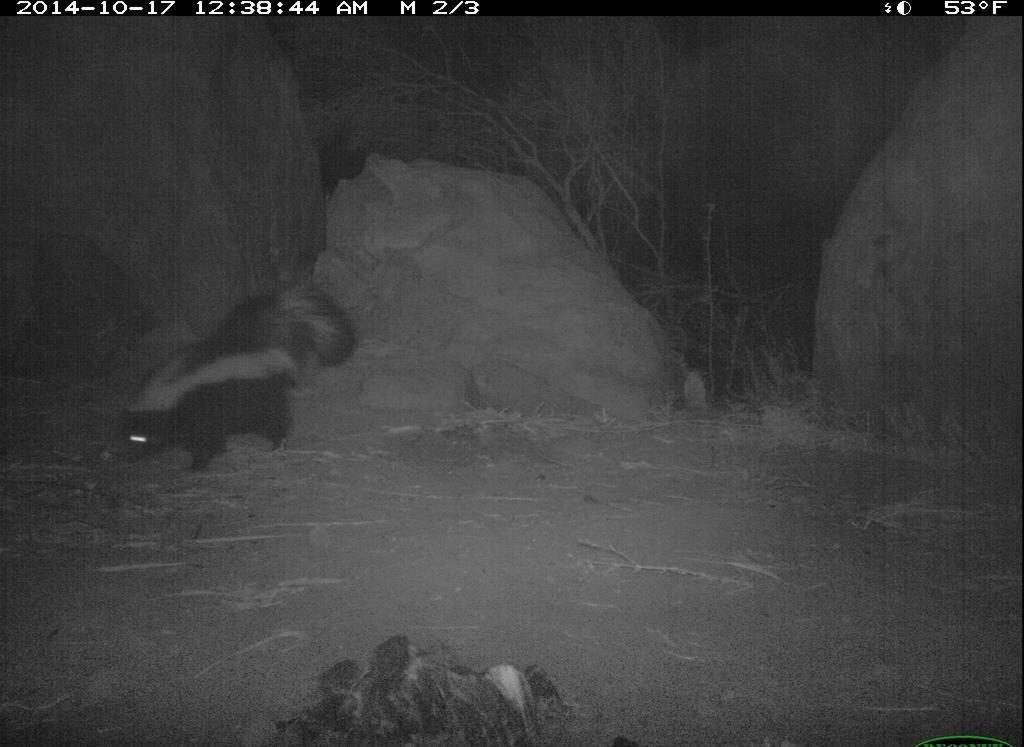skunk: (109, 277, 365, 477)
